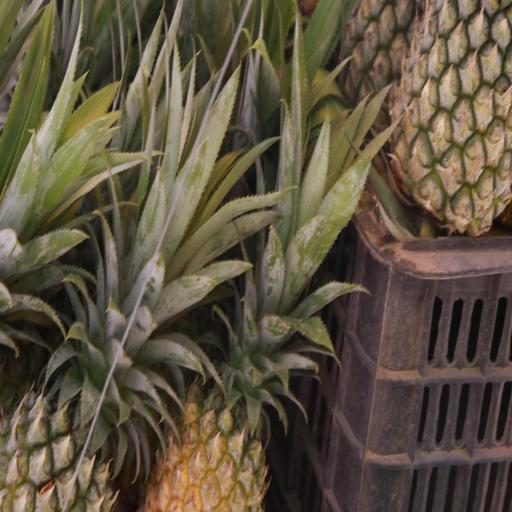Pineapple - v8 v1: (143, 354, 277, 512), (126, 214, 132, 215)
